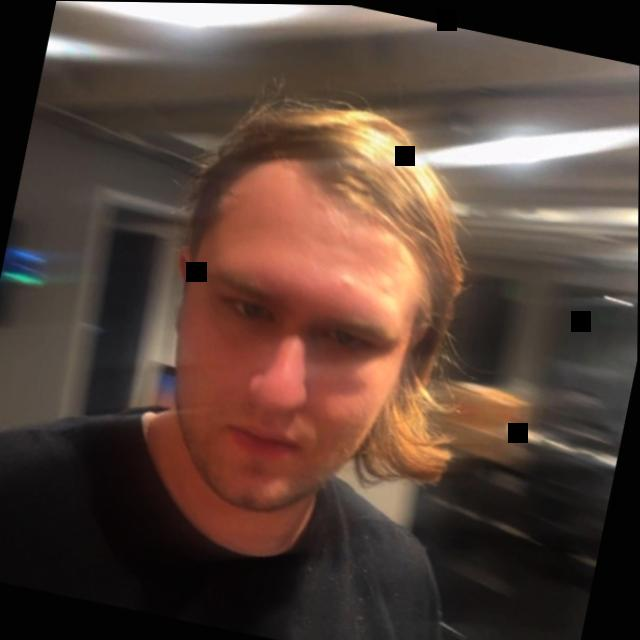NO-Mask: (116, 69, 479, 544)
